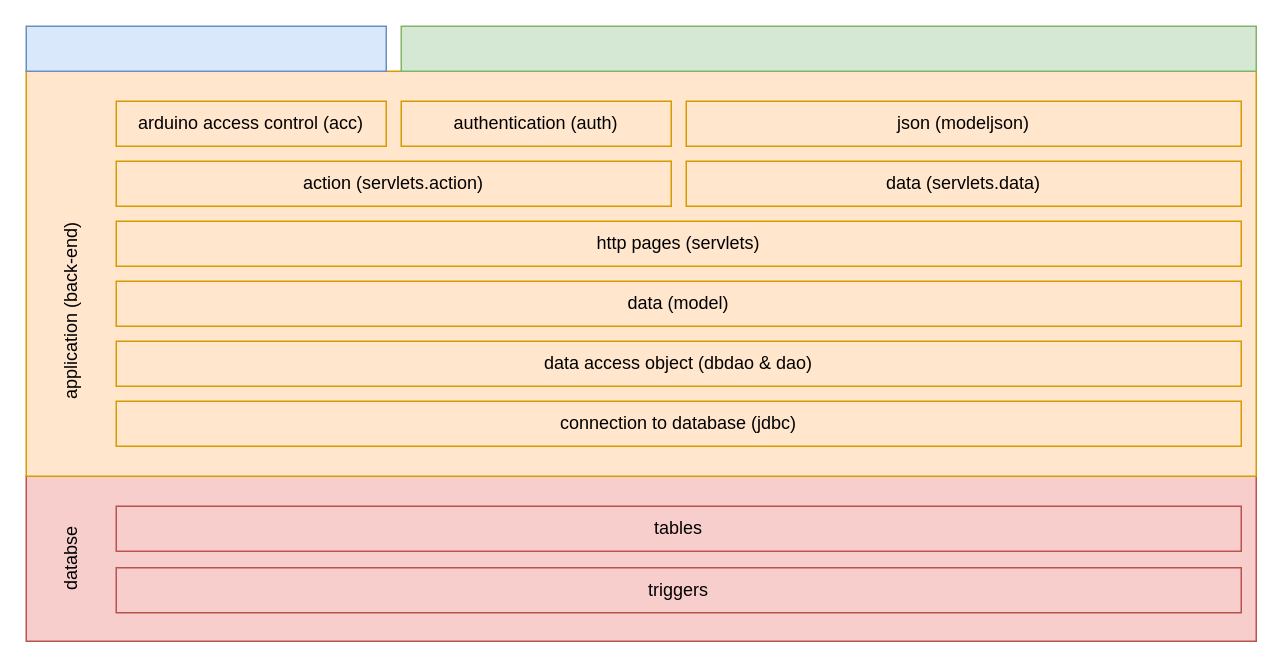
This 1283x668 diagram has some shape labels left out. Here are the shapes that lost their labels. From the top down, the centre of each, then its label:
At point 205,48: "acc client (arduino)".
At point 828,48: "application (front-end)".
